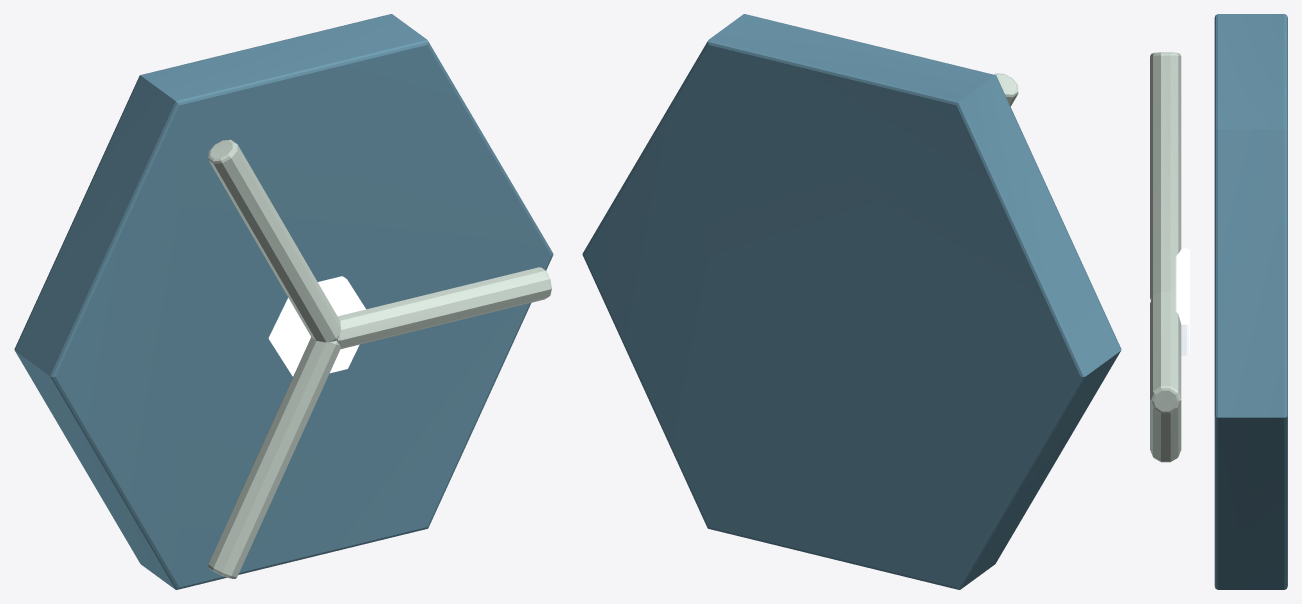
The model's file is item_062.glb.
3 views of the same model, side by side, from view 1: azimuth 30°, elevation 25°; view 2: azimuth 150°, elevation 25°; view 3: azimuth 270°, elevation 25° (orthographic). The views are drawn at different scales.
Visible parts, largest first — view 1: Item_062_frost_hexagon; view 2: Item_062_frost_hexagon; view 3: Item_062_frost_hexagon.
Boxes of the visible parts, x1,y1,x2,y2 form: Item_062_frost_hexagon: [14, 14, 553, 589]; Item_062_frost_hexagon: [582, 14, 1121, 589]; Item_062_frost_hexagon: [1150, 14, 1287, 589].
Size of the model in its own units: 0.56 by 0.5196 by 0.141.
